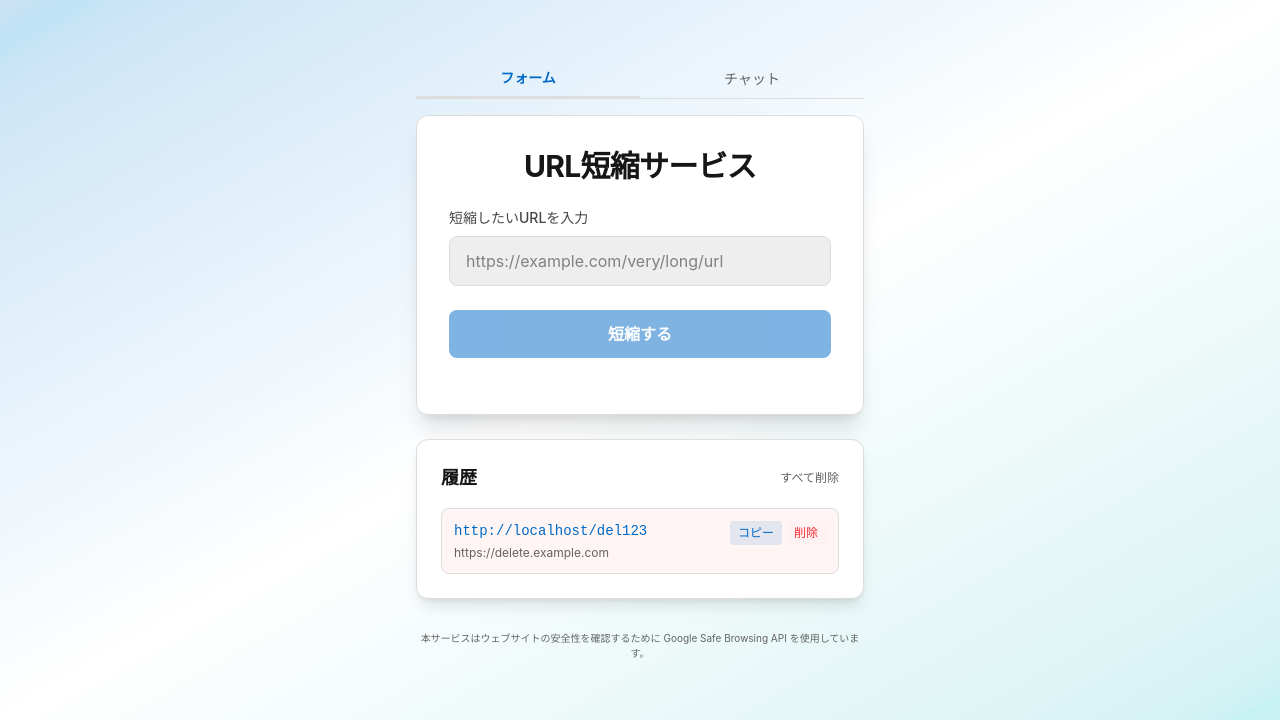
Test case: Home Page › History Feature › removes individual history item
This screenshot has width=1280, height=720.
Click the button "削除" at coordinates (806, 532), box [786,520,826,544]
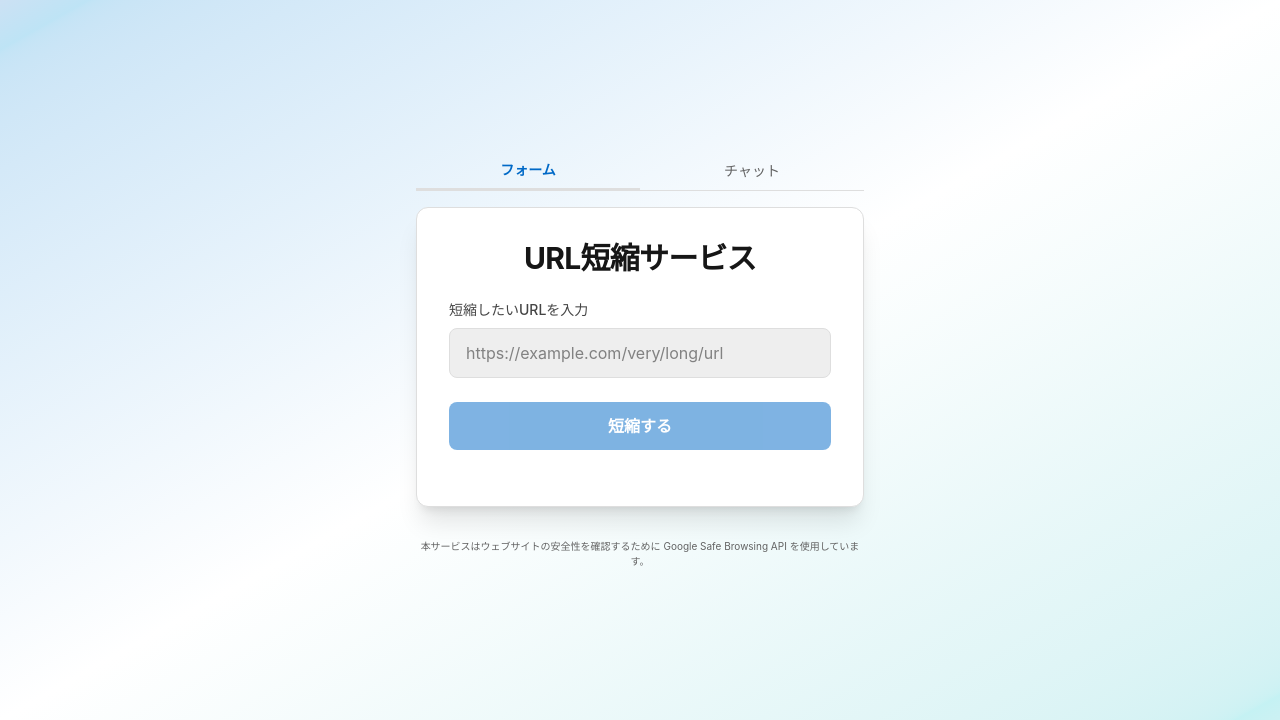
Check: the text "del123" is gone
